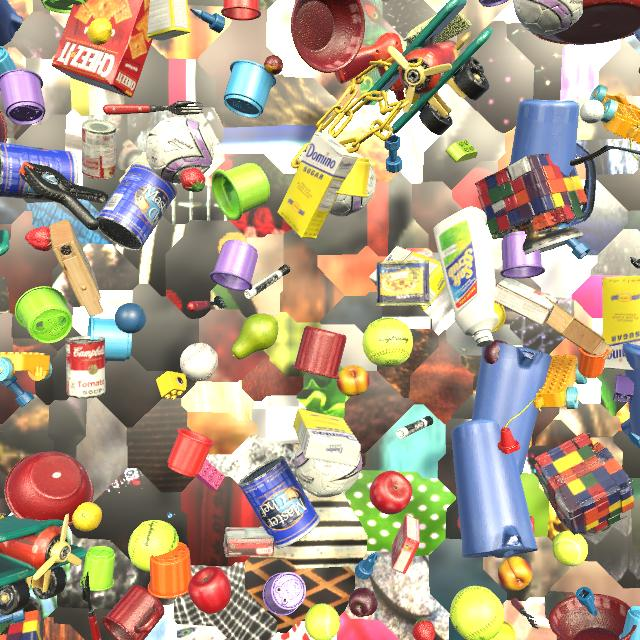ycb_002_master_chef_can: (238, 456, 320, 548), (96, 162, 177, 251), (0, 142, 78, 201)
ycb_003_cracker_box: (51, 0, 153, 98)
ycb_004_sugar_box: (277, 132, 357, 239), (369, 246, 446, 310), (293, 409, 361, 467), (602, 276, 640, 370), (147, 0, 191, 41)
ycb_005_tomato_soup_can: (65, 336, 106, 399), (81, 119, 117, 180)
ycb_008_pudding_box: (494, 278, 558, 326), (223, 527, 274, 557)
ycb_009_gelatin_box: (391, 514, 420, 574)
ycb_010_potted_meat_can: (375, 260, 431, 306)
ycb_012_strawberry: (25, 227, 52, 251), (180, 168, 206, 192), (412, 618, 436, 640)
ycb_013_apple: (188, 566, 231, 614), (369, 471, 412, 515)
ycb_014_lemon: (72, 502, 102, 532), (87, 18, 112, 45)
ycb_015_peach: (498, 556, 532, 591), (336, 365, 370, 396)
ycb_016_pear: (231, 313, 278, 360)
ycb_018_plum: (349, 587, 378, 617), (483, 340, 508, 364)
